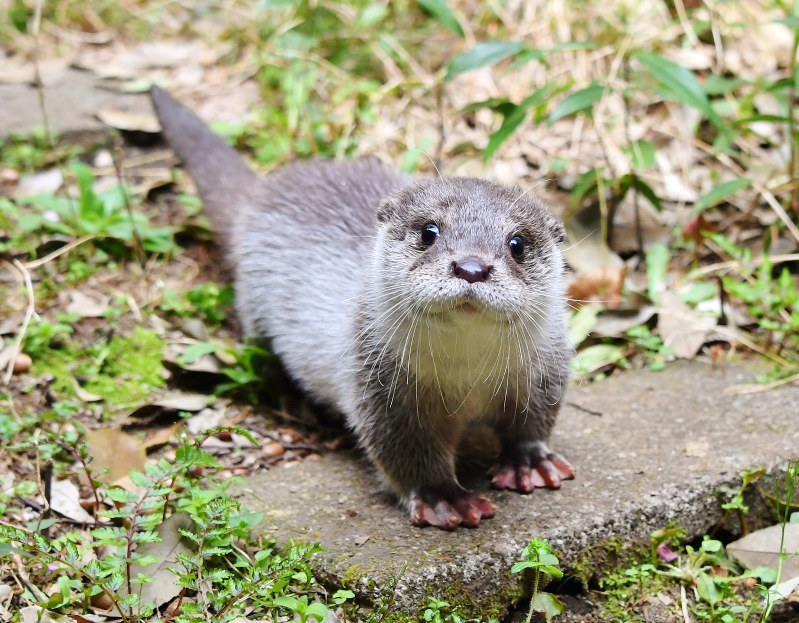otter: (120, 69, 647, 546)
